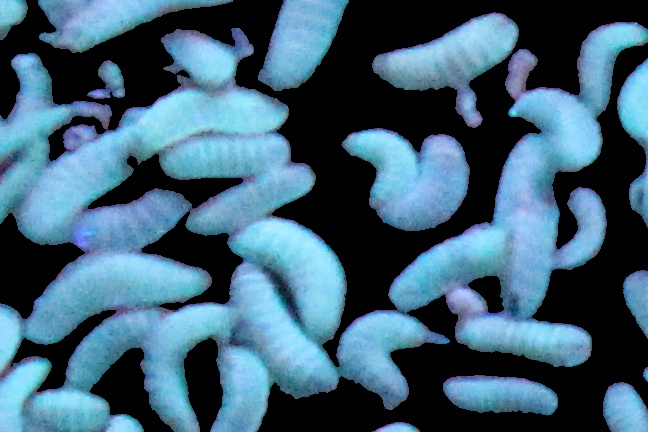larvae: (28, 248, 199, 344), (229, 209, 349, 342), (226, 263, 340, 401), (363, 1, 520, 100), (19, 121, 136, 251), (489, 127, 562, 322), (332, 303, 440, 413), (130, 82, 284, 159), (378, 126, 476, 238), (179, 164, 323, 238), (156, 301, 224, 432), (383, 232, 510, 302), (259, 1, 355, 89), (54, 313, 171, 385), (334, 125, 419, 223), (436, 369, 562, 431), (457, 312, 594, 364), (516, 86, 600, 164), (580, 8, 641, 109), (71, 201, 192, 246), (157, 137, 288, 175), (219, 345, 272, 432), (560, 187, 610, 276), (21, 394, 117, 432)
